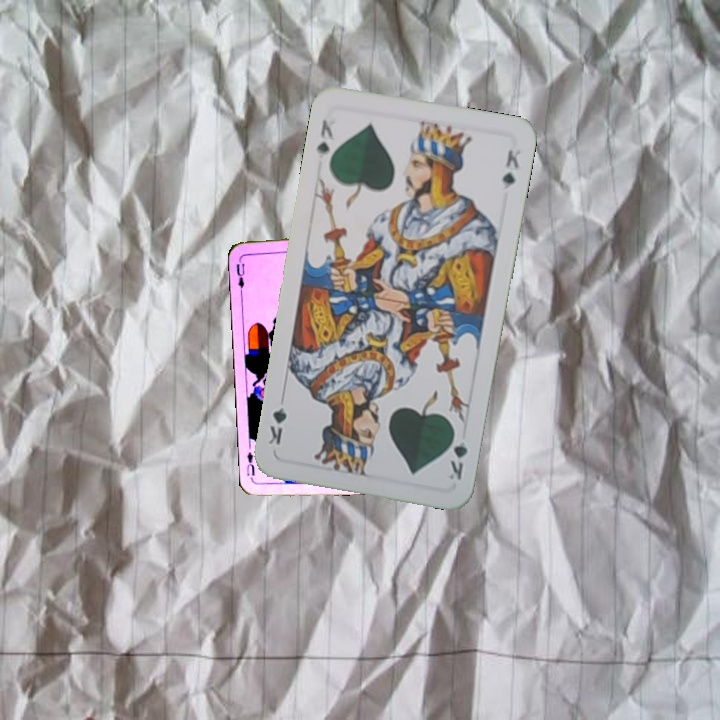EU: (232, 255, 247, 295)
GK: (445, 425, 470, 483), (313, 115, 337, 157)
